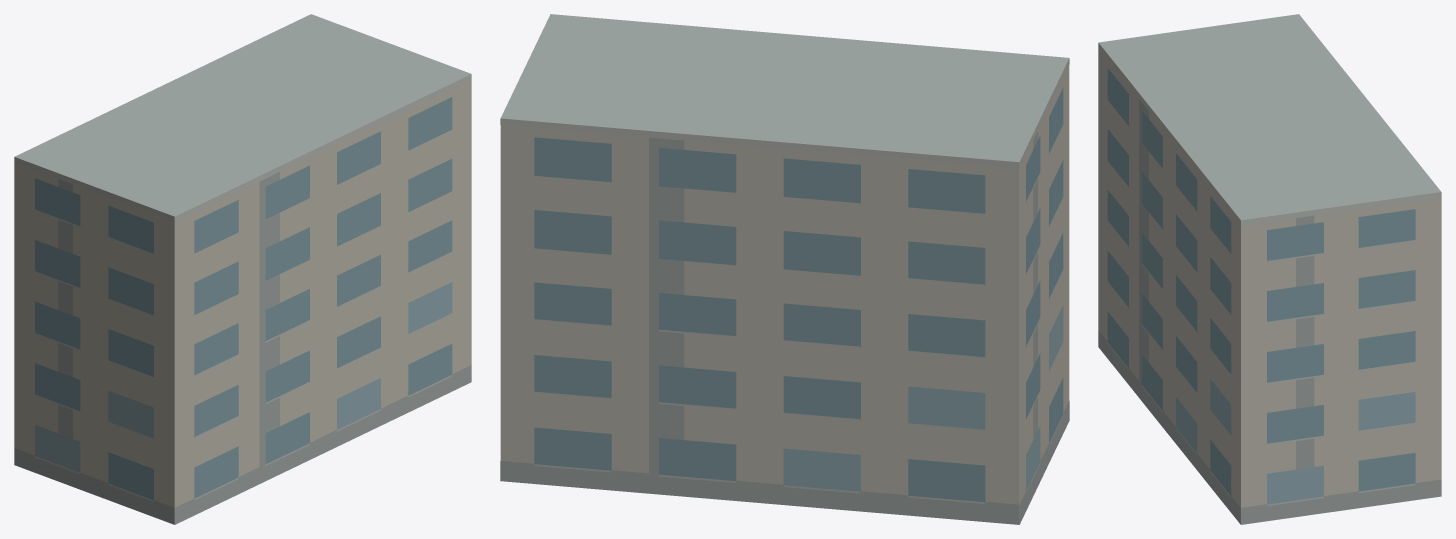
Rendered from survey-upis-33021681.glb.
3 views of the same model, side by side, from view 1: azimuth 30°, elevation 25°; view 2: azimuth 150°, elevation 25°; view 3: azimuth 270°, elevation 25° (orthographic). The views are drawn at different scales.
Parts seen in each view (by area): view 1: survey-upis-33021681.tmp; view 2: survey-upis-33021681.tmp; view 3: survey-upis-33021681.tmp.
Part boxes in pixels (x1,y1,x2,y2): survey-upis-33021681.tmp: (14, 14, 471, 524); survey-upis-33021681.tmp: (500, 14, 1069, 524); survey-upis-33021681.tmp: (1098, 14, 1441, 524).
Size of the model in its own units: 19.34 by 13.3 by 13.59.
